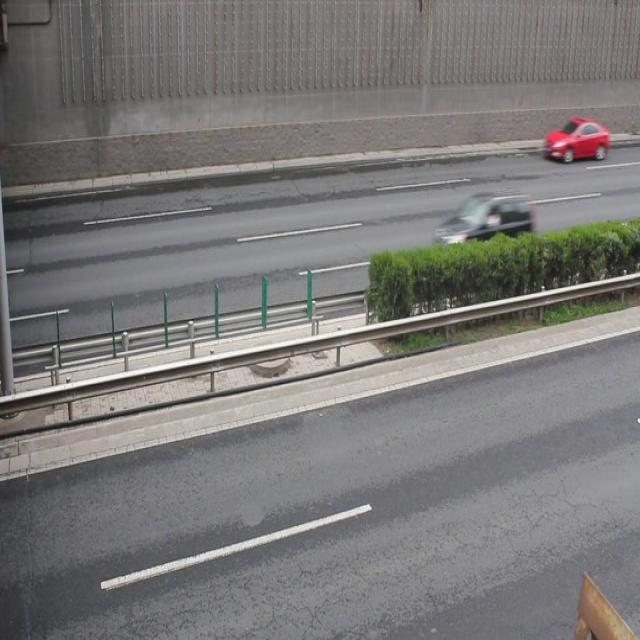car: (431, 188, 533, 275), (542, 117, 608, 165)
